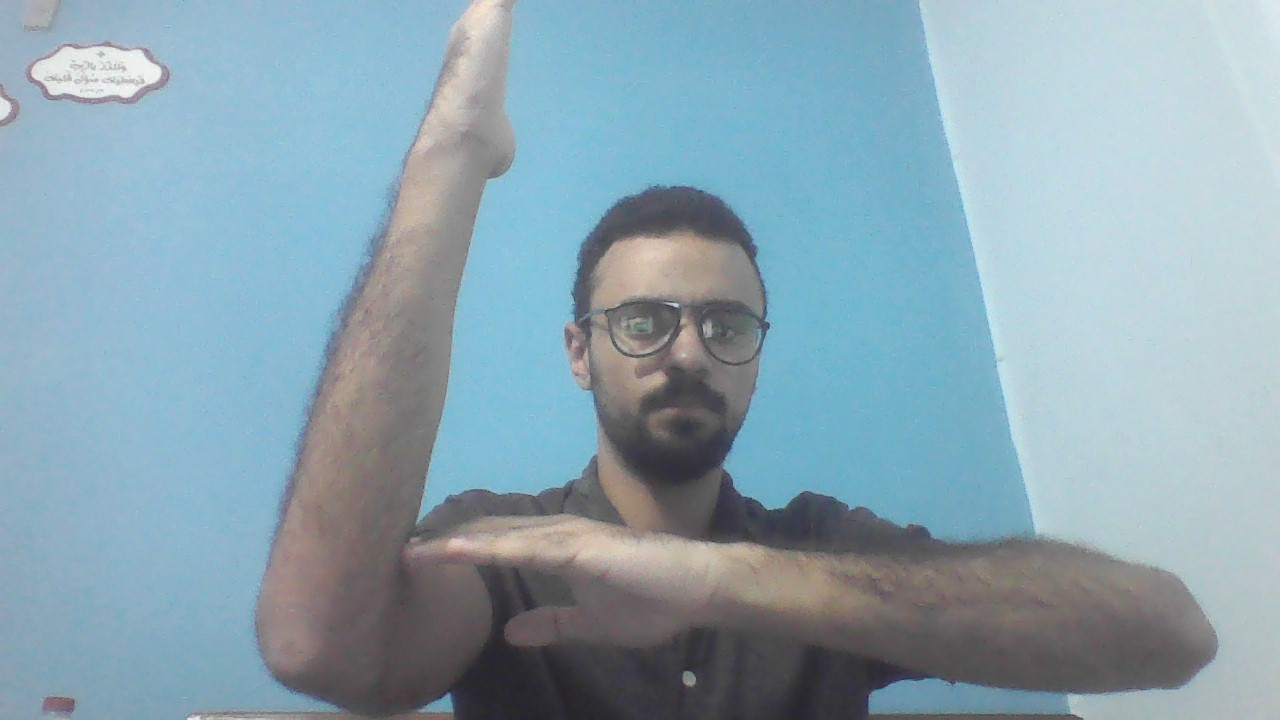morning: (262, 5, 1219, 720)
